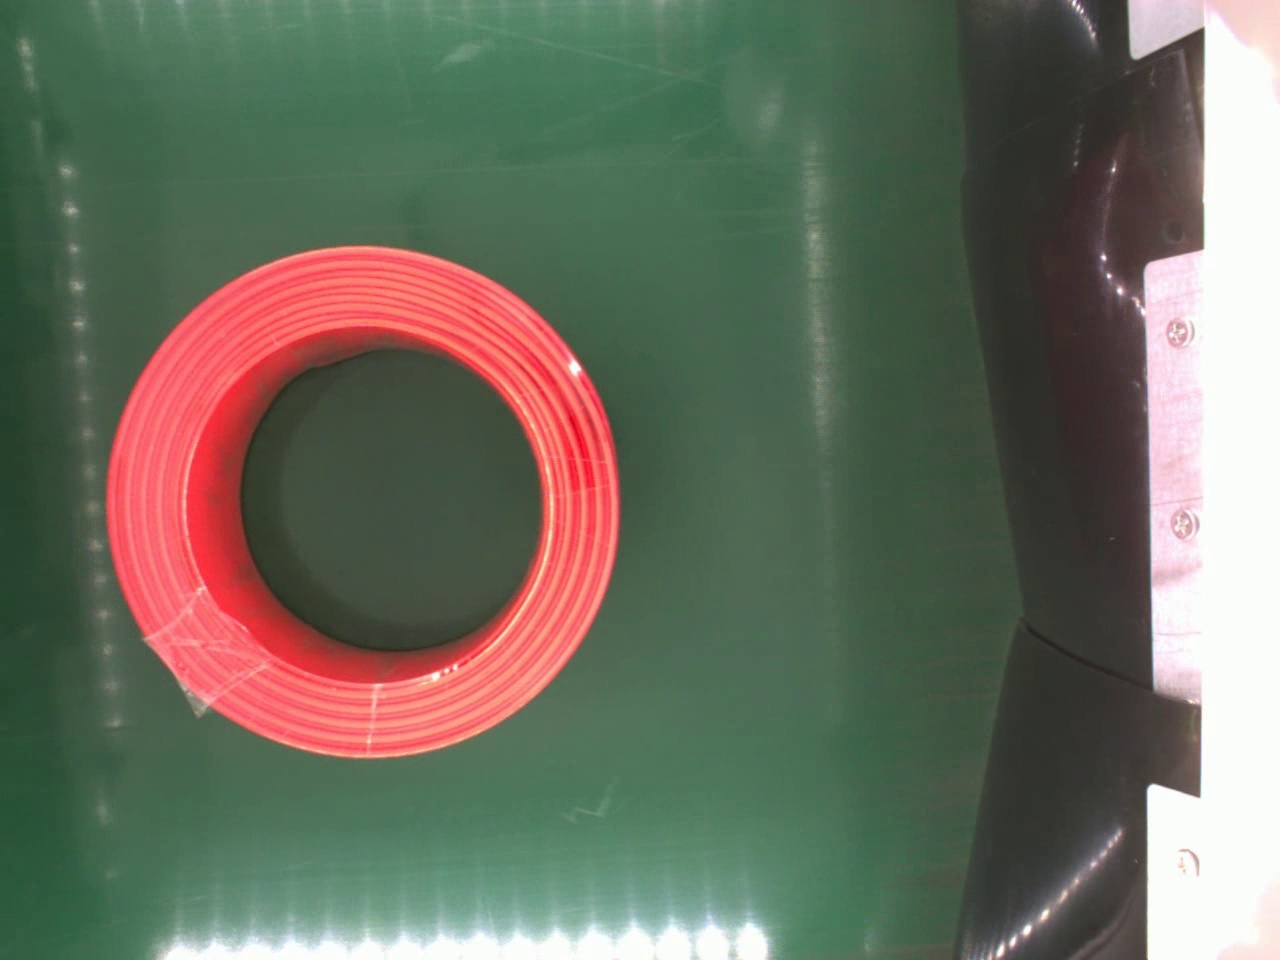red: (106, 240, 622, 763)
